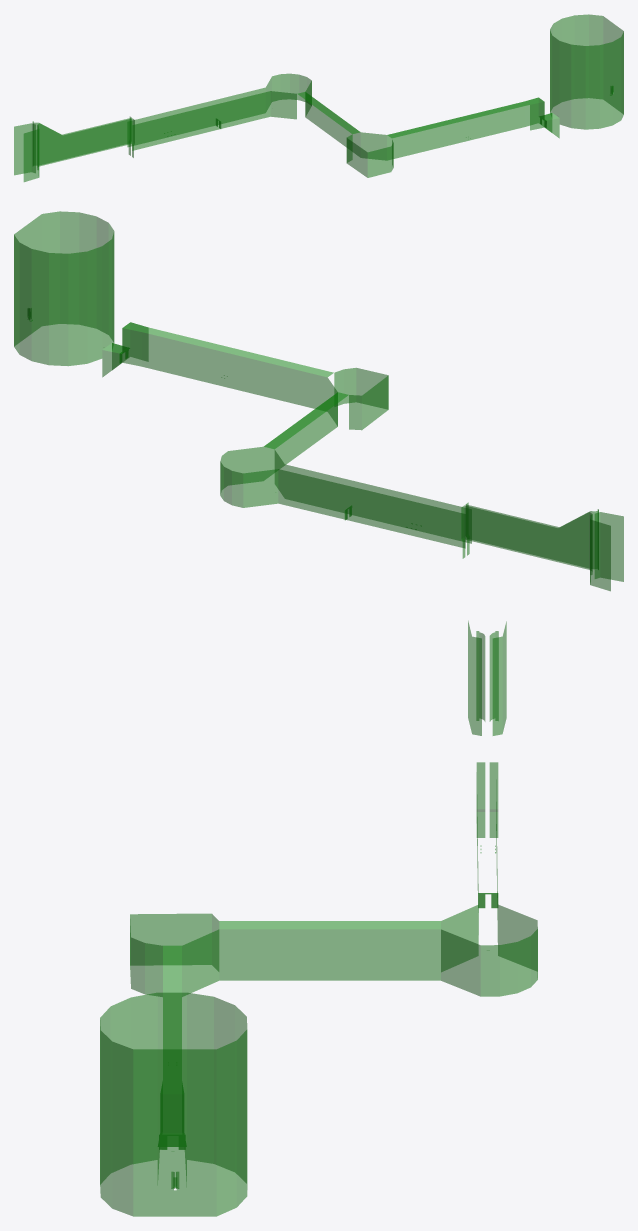
File: wall.obj
The picture shows the model from 3 angles, top to bottom: view 1: azimuth 30°, elevation 25°; view 2: azimuth 150°, elevation 25°; view 3: azimuth 270°, elevation 25°; orthographic projection. The views are drawn at different scales.
Bounding box in the file's own units: 2681 × 485 × 984.
